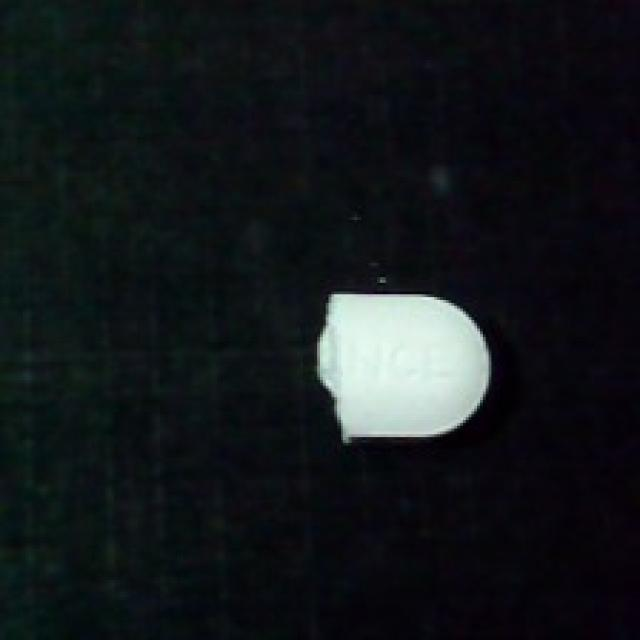defected: (311, 277, 503, 451)
